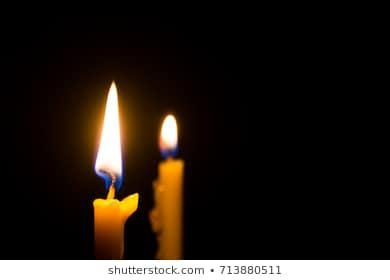fire: (92, 76, 123, 193), (157, 111, 180, 156)
